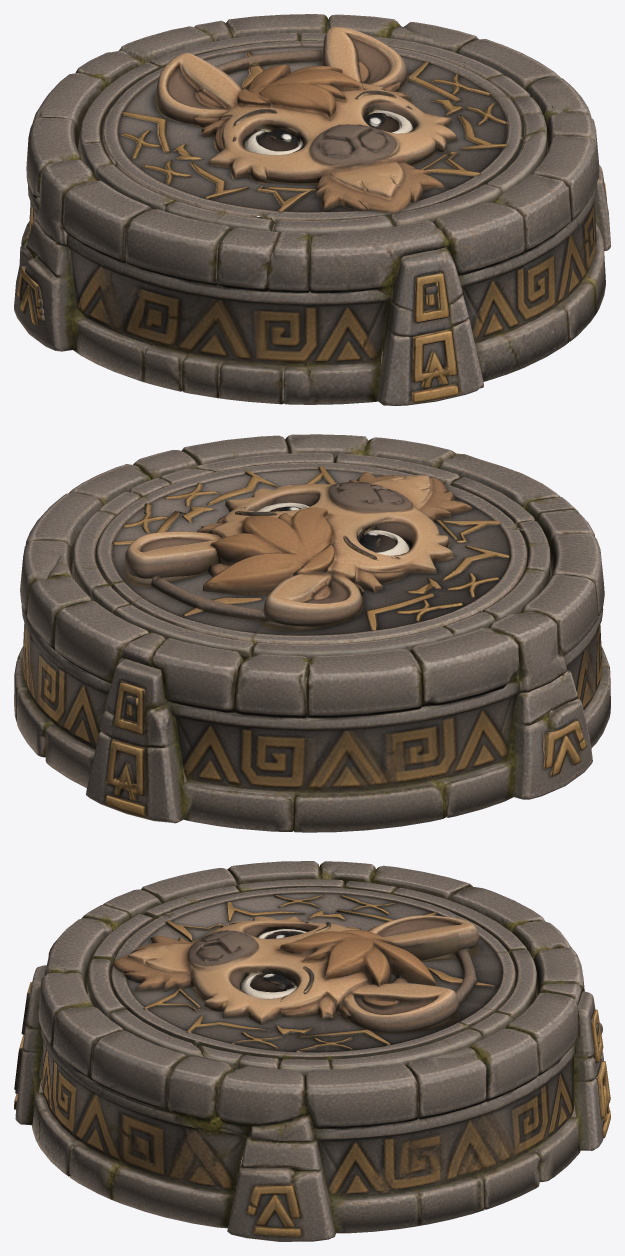
Rendered from boton de guanaco.glb.
3 views of the same model, one above another, from view 1: azimuth 30°, elevation 25°; view 2: azimuth 150°, elevation 25°; view 3: azimuth 270°, elevation 25° (orthographic). The views are drawn at different scales.
Parts seen in each view (by area): view 1: tripo_node_a5761065-8b2d-4a03-9c94-45b6308a074e; view 2: tripo_node_a5761065-8b2d-4a03-9c94-45b6308a074e; view 3: tripo_node_a5761065-8b2d-4a03-9c94-45b6308a074e.
Boxes of the visible parts, x1=… form: tripo_node_a5761065-8b2d-4a03-9c94-45b6308a074e: x1=14, y1=14, x2=610, y2=405; tripo_node_a5761065-8b2d-4a03-9c94-45b6308a074e: x1=14, y1=434, x2=610, y2=832; tripo_node_a5761065-8b2d-4a03-9c94-45b6308a074e: x1=14, y1=861, x2=610, y2=1241.
Size of the model in its own units: 0.9995 by 0.3354 by 0.9995.
Materials: 1 (1 with a texture image).
